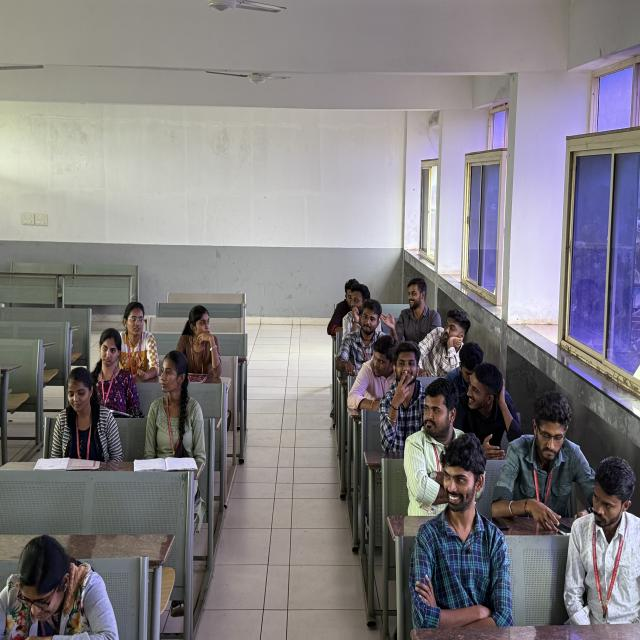Reading: (37, 358, 120, 474)
Using Phone: (507, 398, 595, 544)
